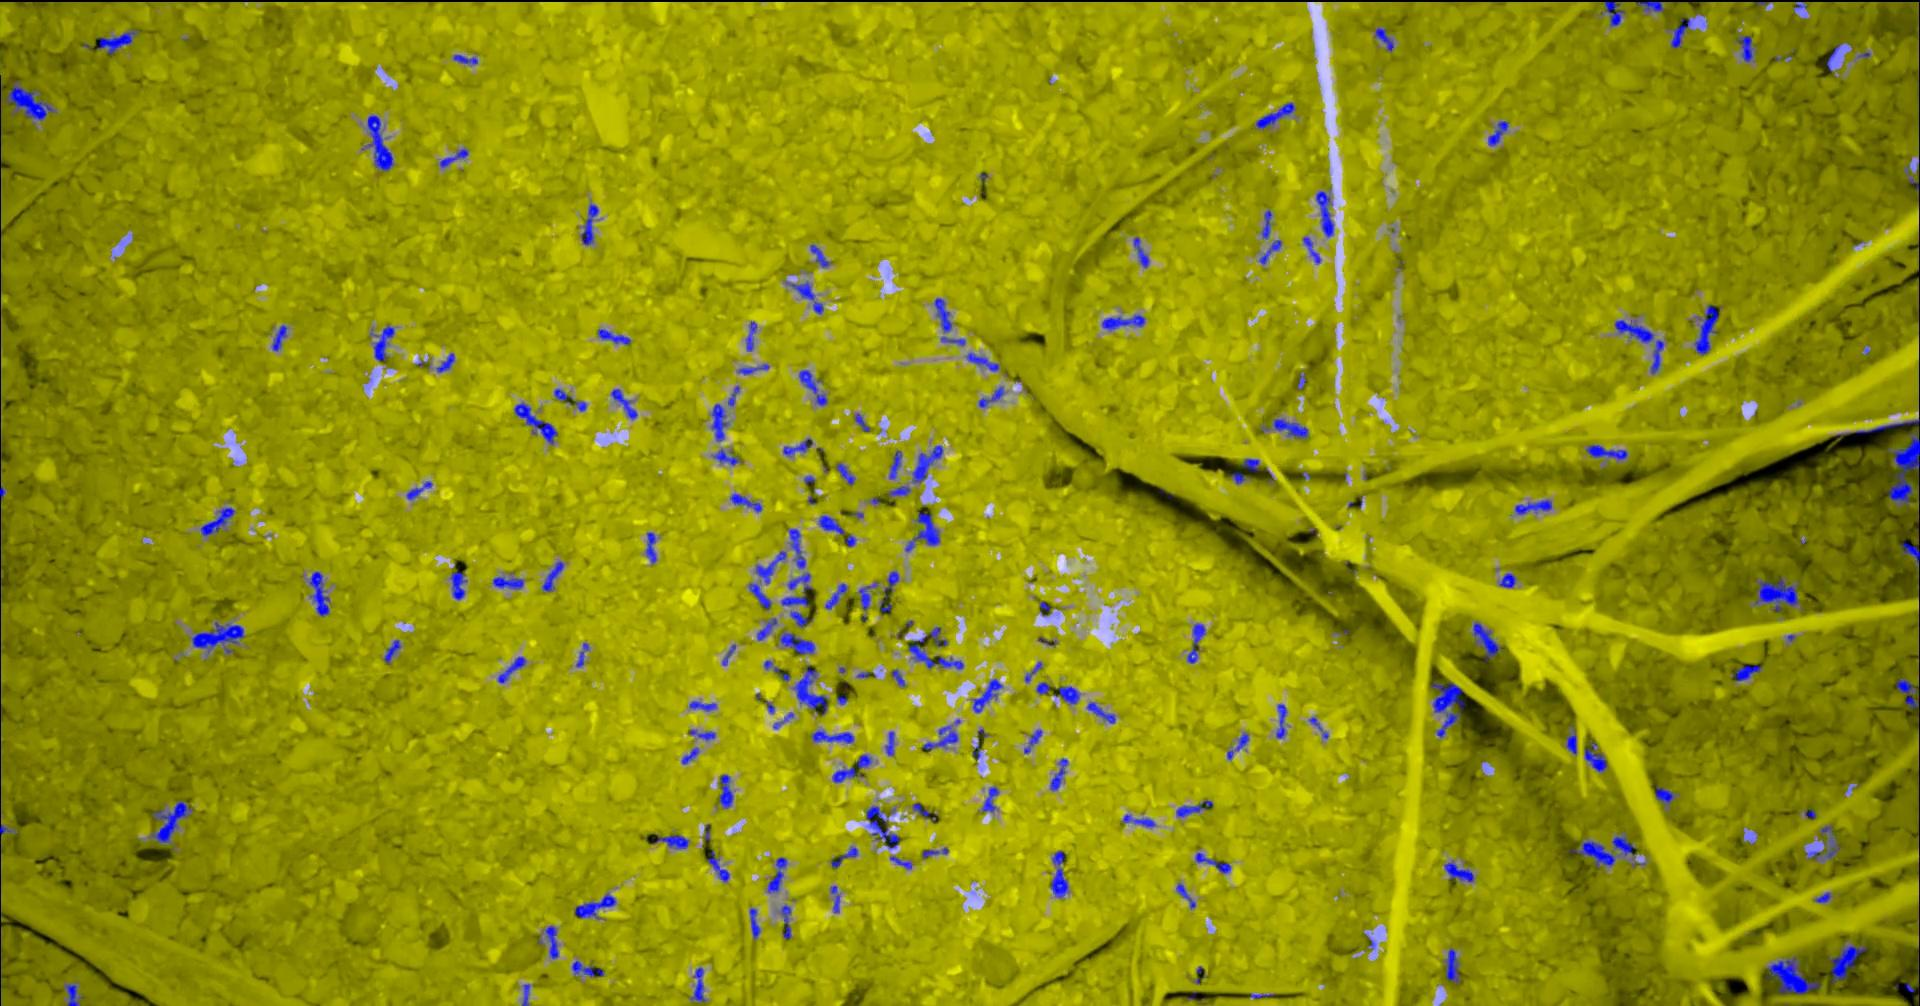ant: (0, 80, 55, 144), (1614, 319, 1663, 373), (907, 626, 963, 669), (1765, 956, 1820, 995), (513, 401, 557, 445), (1431, 681, 1464, 737), (150, 800, 193, 842), (792, 666, 827, 715), (190, 621, 243, 652), (933, 297, 965, 345), (1754, 577, 1798, 611), (865, 805, 899, 848), (367, 114, 392, 170), (1567, 840, 1615, 869), (904, 511, 938, 551), (1829, 945, 1865, 982), (1900, 531, 1919, 594), (1694, 305, 1718, 354), (1804, 826, 1840, 859), (786, 281, 823, 312), (574, 892, 615, 920), (912, 445, 942, 481), (1472, 622, 1501, 661), (1255, 102, 1294, 130), (832, 754, 871, 782), (780, 572, 811, 606), (97, 29, 138, 55), (971, 678, 1002, 713), (797, 370, 827, 405), (1853, 418, 1919, 433), (756, 551, 786, 583), (201, 507, 232, 536), (309, 572, 329, 616), (921, 725, 957, 749), (370, 325, 394, 361), (610, 387, 637, 418), (1316, 191, 1333, 238), (552, 387, 585, 412), (1050, 850, 1067, 897), (1186, 622, 1205, 663), (778, 633, 814, 654), (580, 203, 598, 245), (497, 655, 524, 682), (706, 850, 729, 882), (1195, 852, 1230, 873), (1895, 678, 1919, 708), (1272, 418, 1307, 438), (710, 403, 728, 441), (1583, 742, 1606, 771), (1101, 314, 1144, 329), (767, 857, 786, 892), (789, 528, 805, 568), (1225, 732, 1248, 760), (541, 561, 563, 591), (1086, 701, 1115, 723), (1670, 17, 1690, 47), (830, 845, 857, 868), (966, 352, 998, 371), (729, 493, 761, 512), (1049, 757, 1067, 790), (1258, 239, 1281, 264), (1443, 862, 1473, 882), (1586, 445, 1627, 459), (1514, 499, 1550, 514), (1175, 800, 1211, 815), (858, 580, 877, 610), (1603, 0, 1624, 25), (1487, 119, 1509, 145), (748, 583, 770, 608), (824, 583, 846, 608), (597, 328, 630, 344), (1175, 882, 1195, 908), (811, 730, 853, 743), (690, 967, 705, 1001), (782, 438, 811, 456), (978, 386, 1003, 406), (651, 835, 688, 848), (1302, 238, 1321, 264), (818, 514, 844, 533), (450, 569, 466, 600), (439, 149, 467, 166), (1445, 948, 1459, 983), (1611, 835, 1636, 855), (1736, 36, 1755, 61), (406, 480, 432, 499), (571, 960, 603, 976), (717, 774, 731, 808), (1053, 685, 1079, 702), (756, 617, 776, 640), (1731, 664, 1761, 680), (712, 448, 740, 465), (543, 925, 557, 958), (1133, 238, 1148, 267), (1909, 159, 1919, 202), (810, 244, 829, 267), (912, 801, 935, 821), (1375, 27, 1393, 51), (1023, 729, 1041, 753), (982, 786, 998, 812), (1275, 702, 1286, 738), (491, 575, 523, 588), (780, 904, 791, 939), (436, 352, 455, 372), (836, 464, 855, 484), (883, 572, 898, 597), (790, 610, 811, 627), (1023, 661, 1041, 682), (63, 983, 81, 1005), (383, 639, 400, 662), (1123, 814, 1156, 826), (272, 324, 286, 351), (889, 450, 902, 479), (1655, 785, 1674, 803), (645, 532, 657, 561), (575, 641, 588, 667), (1636, 0, 1663, 11), (749, 907, 759, 937), (690, 700, 716, 711), (745, 321, 756, 351), (737, 365, 770, 373), (681, 747, 698, 763), (1564, 729, 1576, 754), (1261, 210, 1271, 238), (921, 847, 949, 857), (889, 856, 910, 869), (690, 729, 715, 739), (1498, 572, 1515, 587), (855, 413, 869, 431), (830, 885, 839, 912), (728, 385, 739, 405), (452, 55, 477, 64), (1241, 459, 1258, 471), (888, 485, 909, 495), (885, 730, 894, 754), (891, 669, 904, 686), (521, 983, 530, 1005), (1230, 471, 1244, 484), (1039, 600, 1050, 615), (1815, 892, 1831, 902), (879, 600, 891, 612), (1036, 682, 1049, 694)
